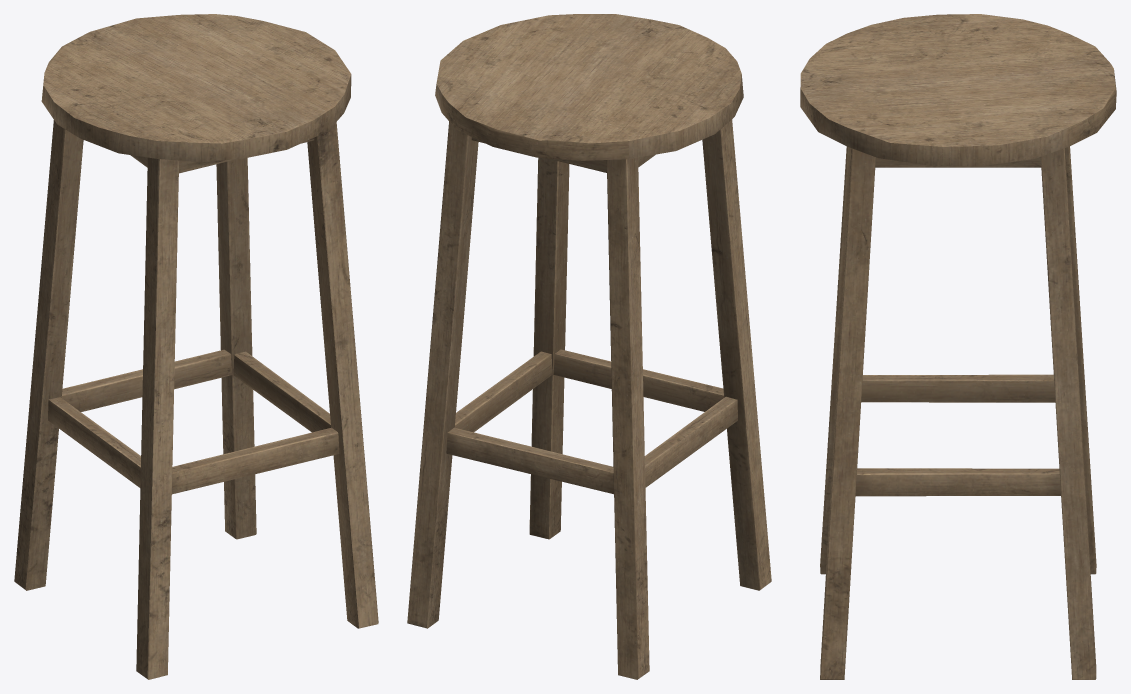
File: SM_Stools_Round.glb
The picture shows the model from 3 angles, left to right: view 1: azimuth 30°, elevation 25°; view 2: azimuth 150°, elevation 25°; view 3: azimuth 270°, elevation 25°; orthographic projection. The views are drawn at different scales.
Parts seen in each view (by area): view 1: SM_Stools_Round; view 2: SM_Stools_Round; view 3: SM_Stools_Round.
Part boxes in pixels (left/top/right/bottom): SM_Stools_Round: left=14, top=14, right=378, bottom=679; SM_Stools_Round: left=407, top=14, right=771, bottom=679; SM_Stools_Round: left=800, top=14, right=1116, bottom=679.
Bounding box in the file's own units: 0.4156 × 0.7872 × 0.4166.
1 material, 1 textured.
